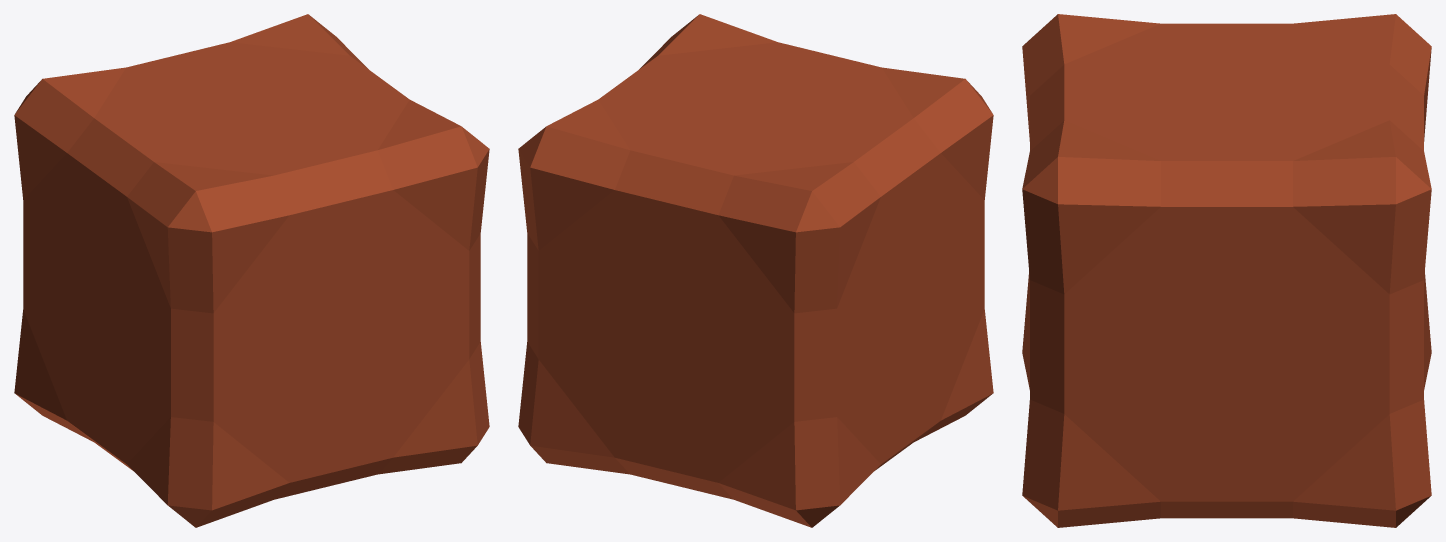
File: wall_tile.obj
3 renders of one model, left to right at view 1: azimuth 30°, elevation 25°; view 2: azimuth 150°, elevation 25°; view 3: azimuth 270°, elevation 25°, orthographic. The views are drawn at different scales.
Visible parts, largest first — view 1: Cube_Cube.001; view 2: Cube_Cube.001; view 3: Cube_Cube.001.
Boxes of the visible parts, left/top/right/bottom form: Cube_Cube.001: left=14, top=14, right=489, bottom=527; Cube_Cube.001: left=518, top=14, right=993, bottom=527; Cube_Cube.001: left=1022, top=14, right=1431, bottom=527.
Size of the model in its own units: 1 by 1 by 1.
